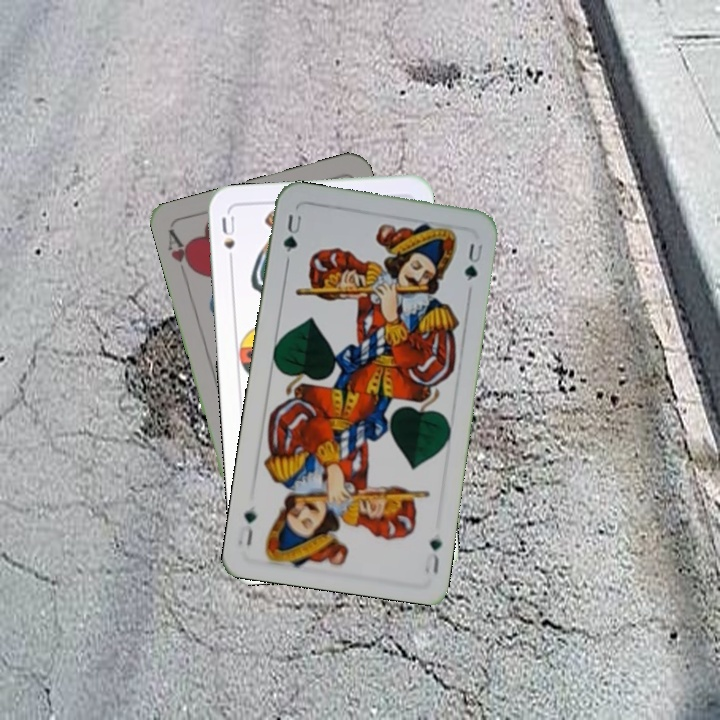GU: (279, 210, 304, 255), (420, 534, 444, 577)
HA: (163, 226, 199, 284)
SU: (218, 212, 238, 269)
